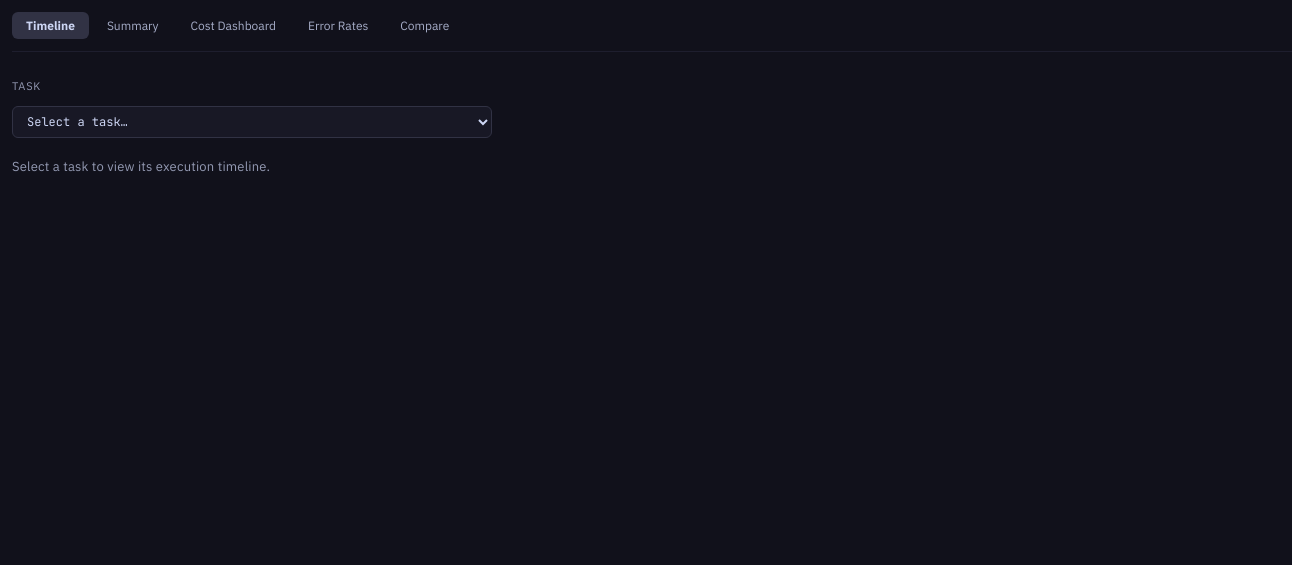
Scenario: H2 — Observability must not let a stale response win › keeps the newest selection when an older request resolves last
Click the button "Summary" at (133, 26), box 93,12 -> 173,39
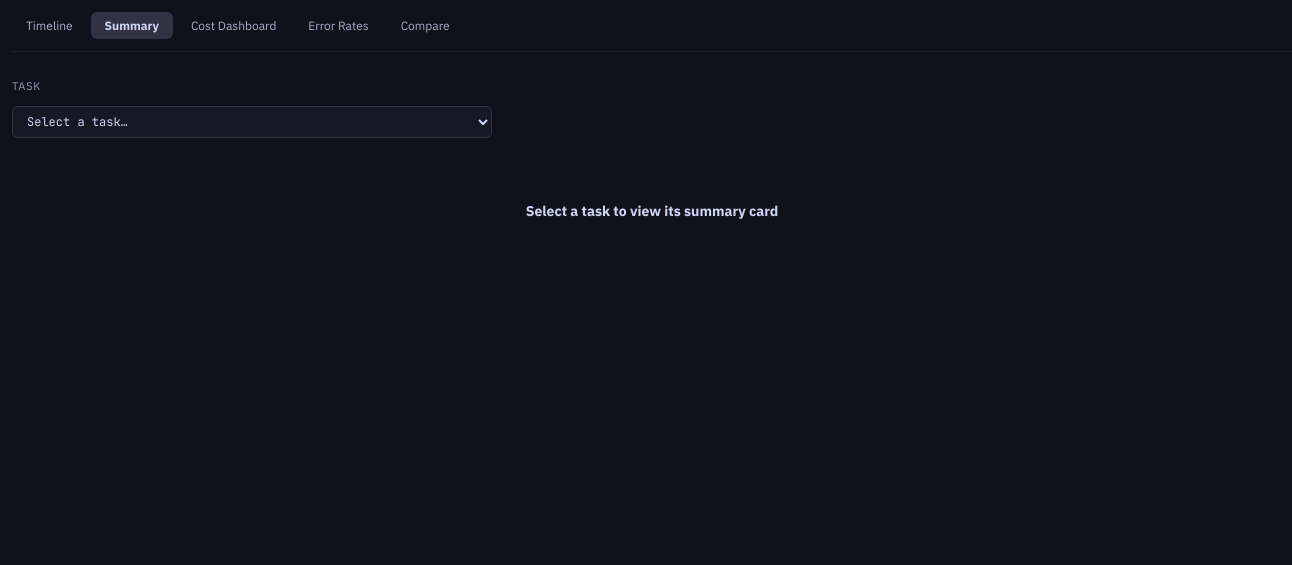
// Select A — its request hangs.
Select "Task A — Completed — 7/1/2026, 12:00:00 AM" in the dropdown labelled "Task" at (252, 122), box 12,106 -> 492,138
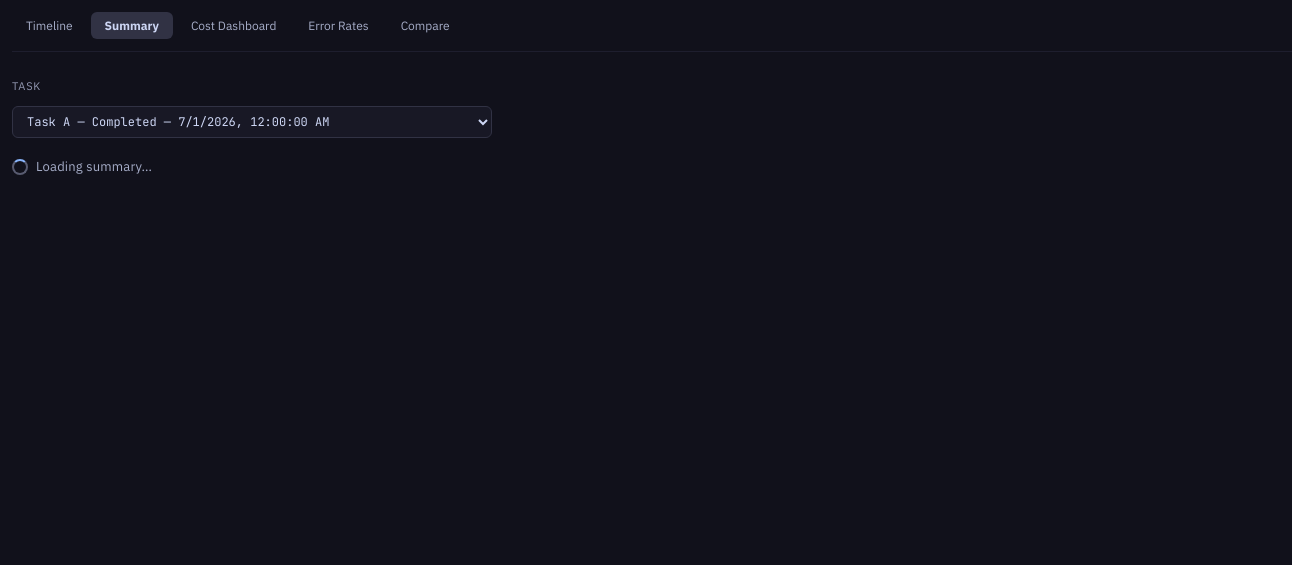
Check: the text "Loading summary…" is shown, box 36,154 -> 152,180
// Switch to B before A returns. B answers immediately.
Select "Task B — Completed — 7/2/2026, 12:00:00 AM" in the dropdown labelled "Task" at (252, 122), box 12,106 -> 492,138
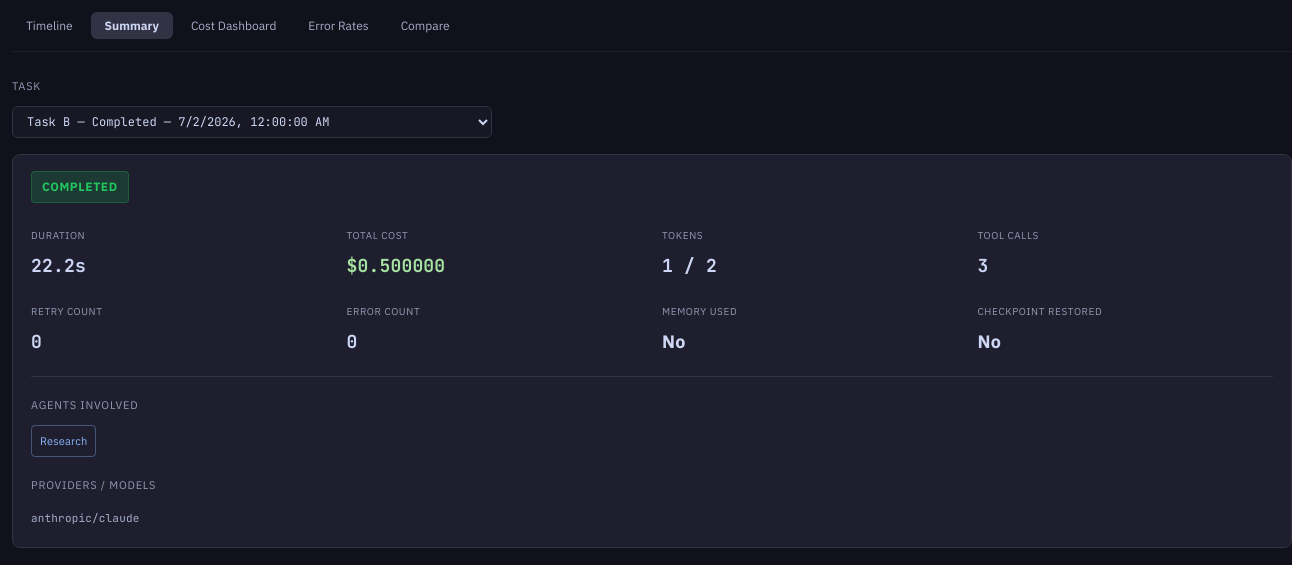
Check: the text "22.2s" is shown, box 31,254 -> 86,277
